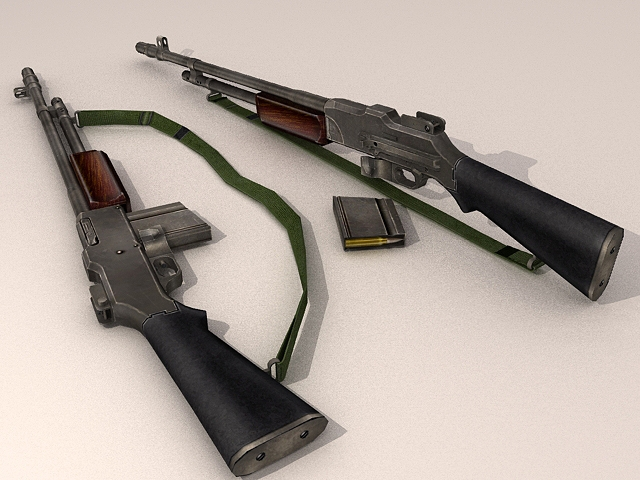rifle: (23, 67, 322, 475), (132, 31, 626, 237)
